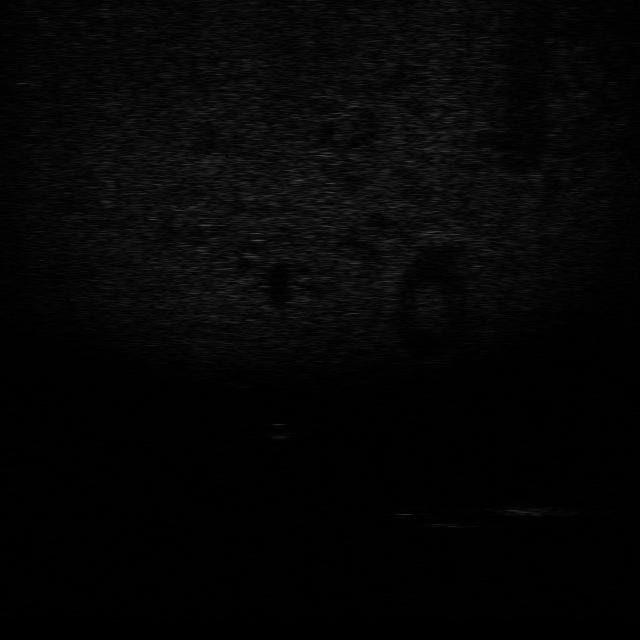ball: (264, 421, 292, 440)
metal bucket: (491, 500, 575, 521)
tyre: (394, 502, 474, 531)
